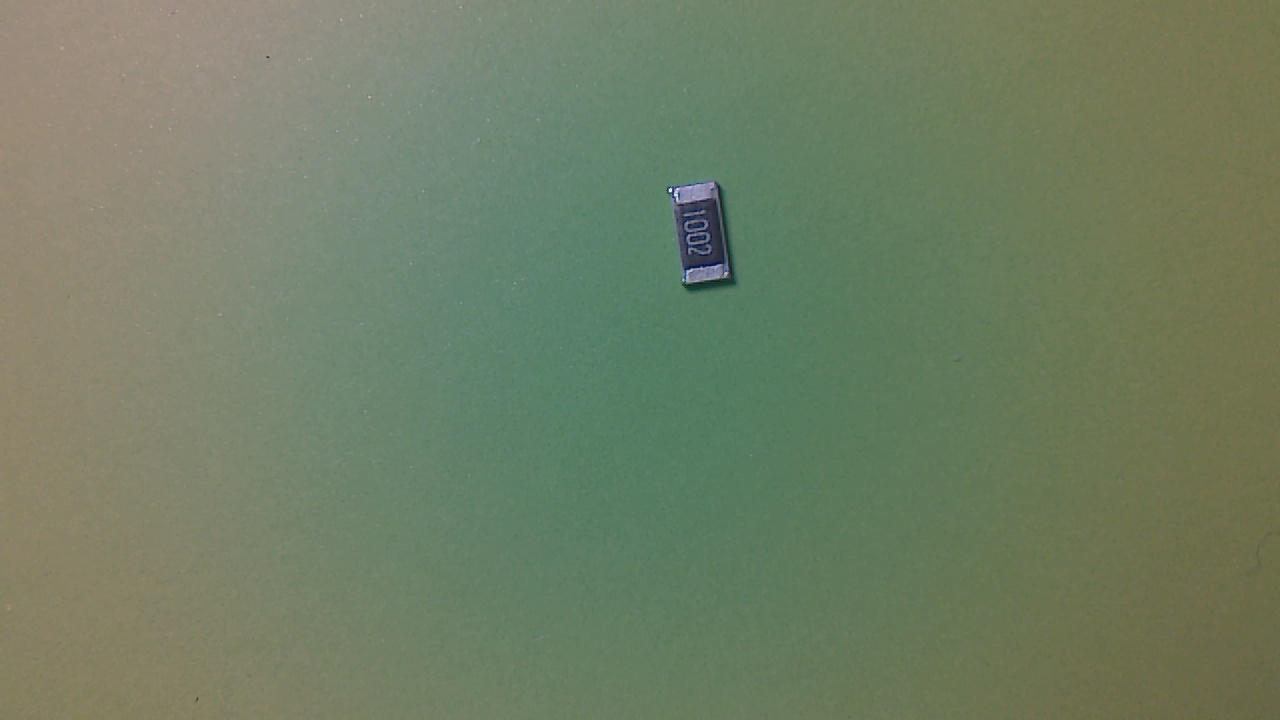Resistor: (664, 185, 745, 297)
